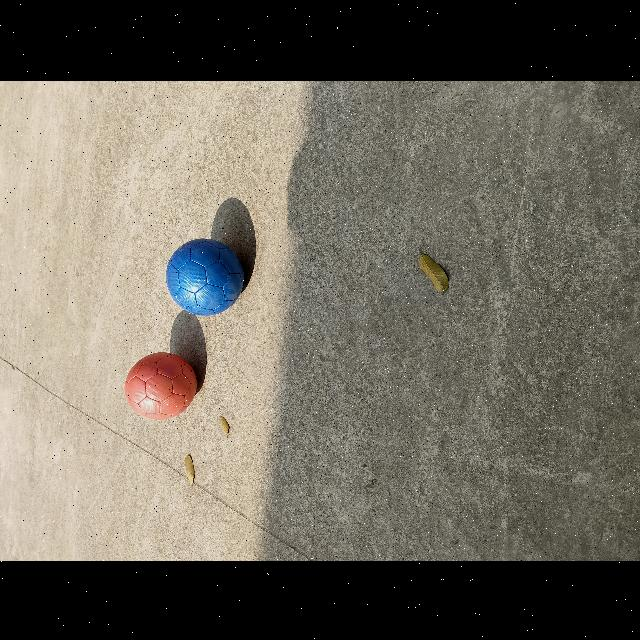B: (167, 237, 248, 316)
R: (124, 350, 202, 419)
